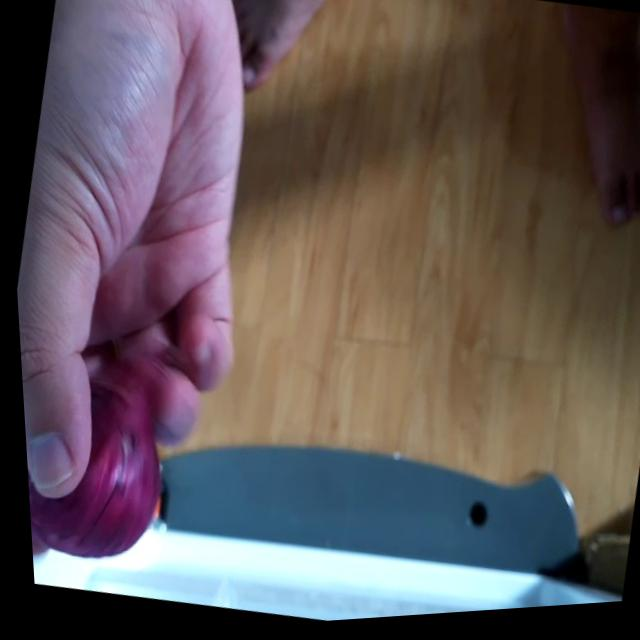onion: (16, 330, 193, 573)
